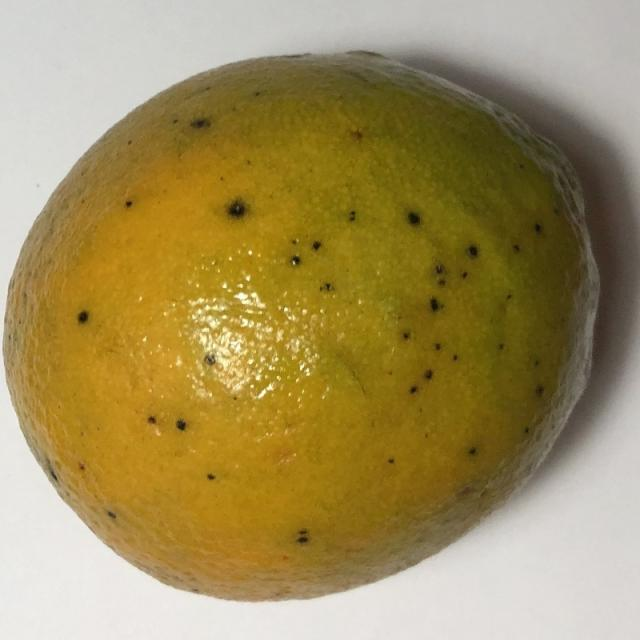blackspot: (0, 34, 622, 627)
